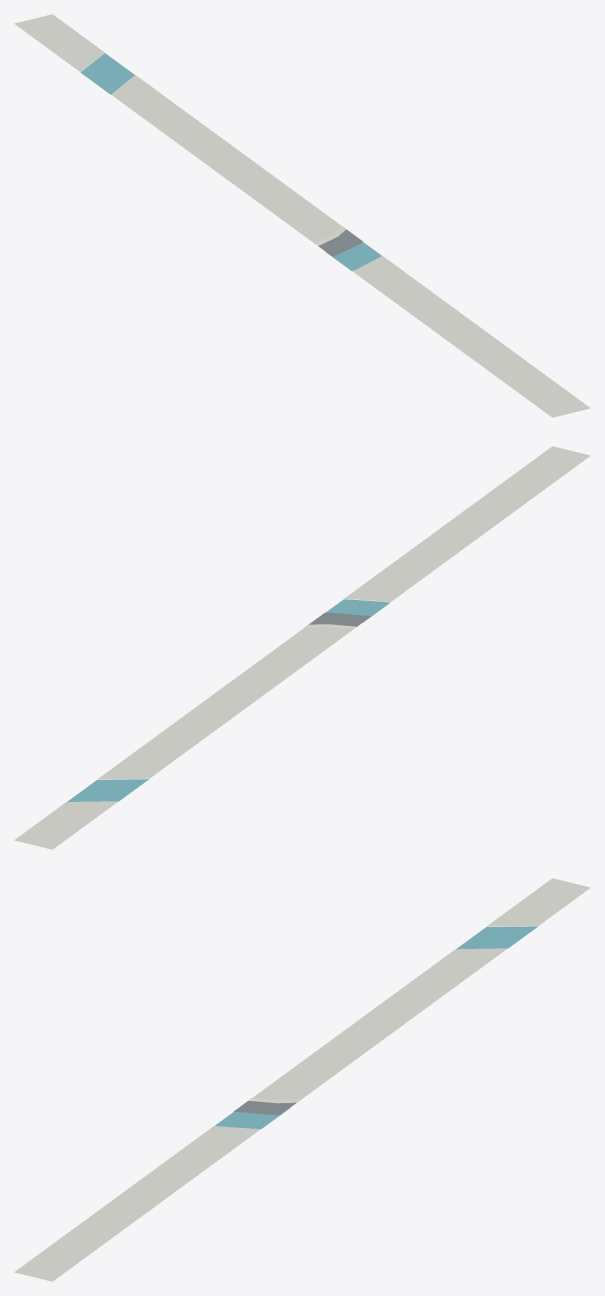
The picture shows the model from 3 angles, top to bottom: view 1: azimuth 30°, elevation 25°; view 2: azimuth 150°, elevation 25°; view 3: azimuth 330°, elevation 25°; orthographic projection.
Parts seen in each view (by area): view 1: city; view 2: city; view 3: city.
Part boxes in pixels (box(x1,y1,x2,y2)): city: box(14, 14, 590, 417); city: box(14, 446, 590, 849); city: box(14, 878, 590, 1281).
Bounding box in the file's own units: 20.66 × 0.4 × 500.
